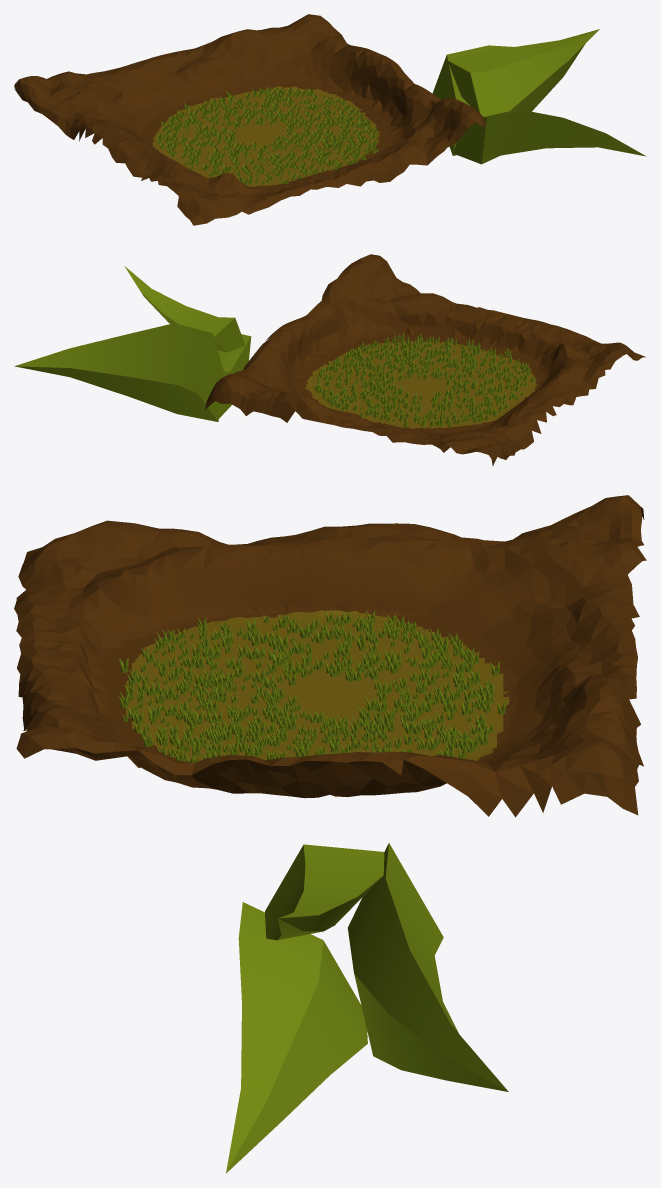
Rendered from Level 1 terrain.fbx.
The picture shows the model from 3 angles, top to bottom: view 1: azimuth 30°, elevation 25°; view 2: azimuth 150°, elevation 25°; view 3: azimuth 270°, elevation 25°; orthographic projection. The views are drawn at different scales.
Parts seen in each view (by area): view 1: Terrain, Grass; view 2: Terrain, Grass; view 3: Terrain, Grass.
Boxes of the visible parts, <box> form: Terrain: <box>14,14,486,225</box>; Grass: <box>432,29,646,164</box>; Terrain: <box>205,254,645,466</box>; Grass: <box>14,266,251,421</box>; Terrain: <box>14,495,646,817</box>; Grass: <box>226,843,508,1173</box>.
Size of what is drawn, in the model's own units: 6.78 by 1.62 by 3.79.
